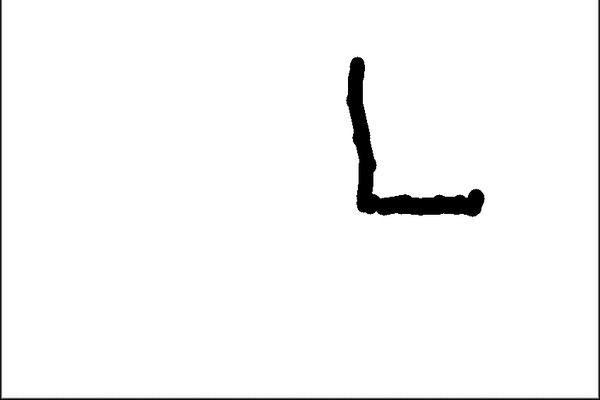L: (333, 43, 488, 224)
